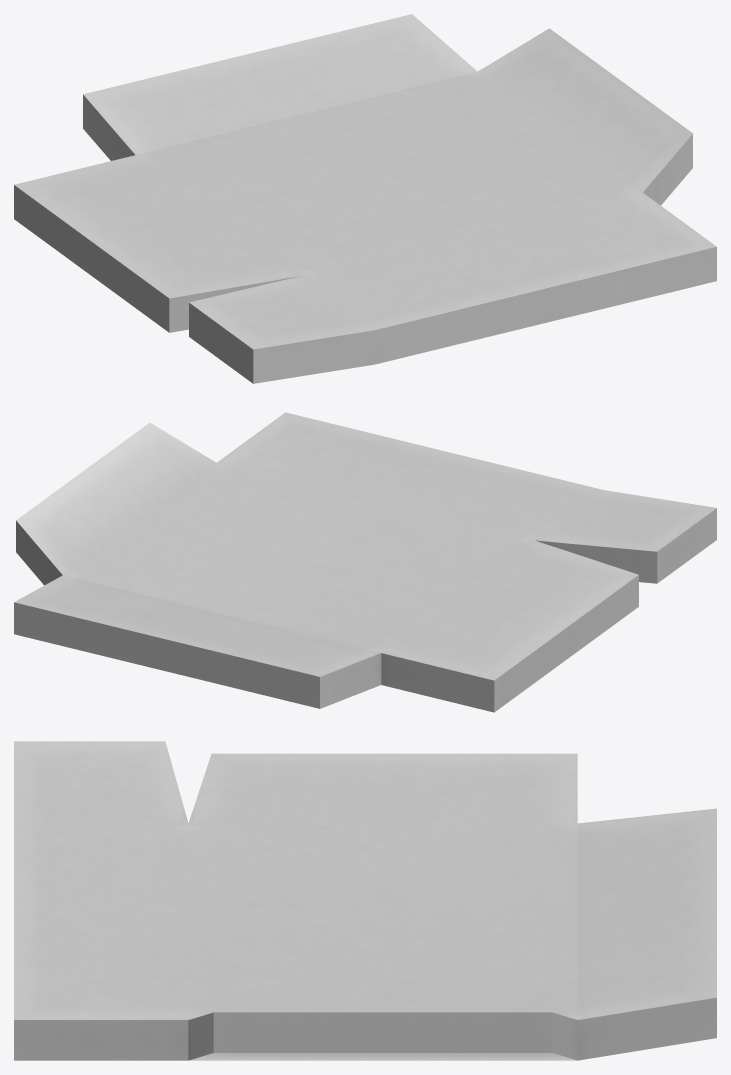
File: Pfb_PaperBox__14.fbx
3 views of the same model, one above another, from view 1: azimuth 30°, elevation 25°; view 2: azimuth 150°, elevation 25°; view 3: azimuth 270°, elevation 25° (orthographic). The views are drawn at different scales.
Parts seen in each view (by area): view 1: Mat_PaperBox_White; view 2: Mat_PaperBox_White; view 3: Mat_PaperBox_White.
Boxes of the visible parts, x1,y1,x2,y2 form: Mat_PaperBox_White: (14,14,716,383); Mat_PaperBox_White: (14,412,716,712); Mat_PaperBox_White: (14,741,716,1060).
Size of the model in its own units: 0.7033 by 0.0906 by 0.6927.
Materials: 1 (1 with a texture image).
